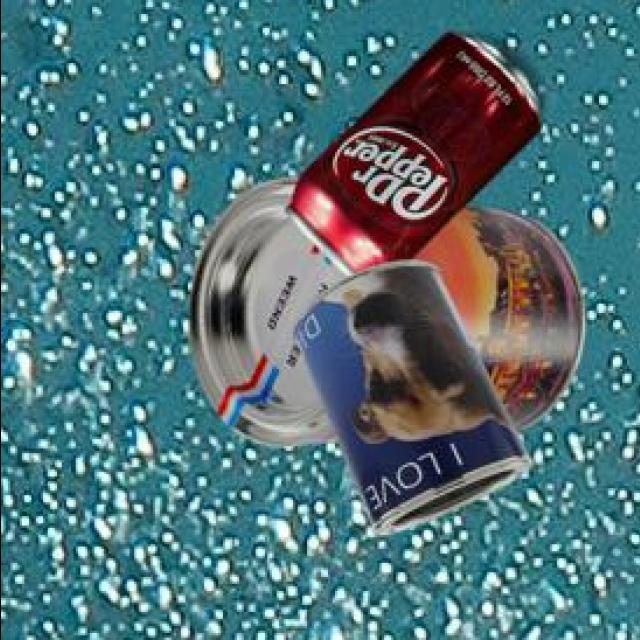logam: (193, 174, 587, 443), (295, 258, 536, 531), (288, 29, 545, 272)
